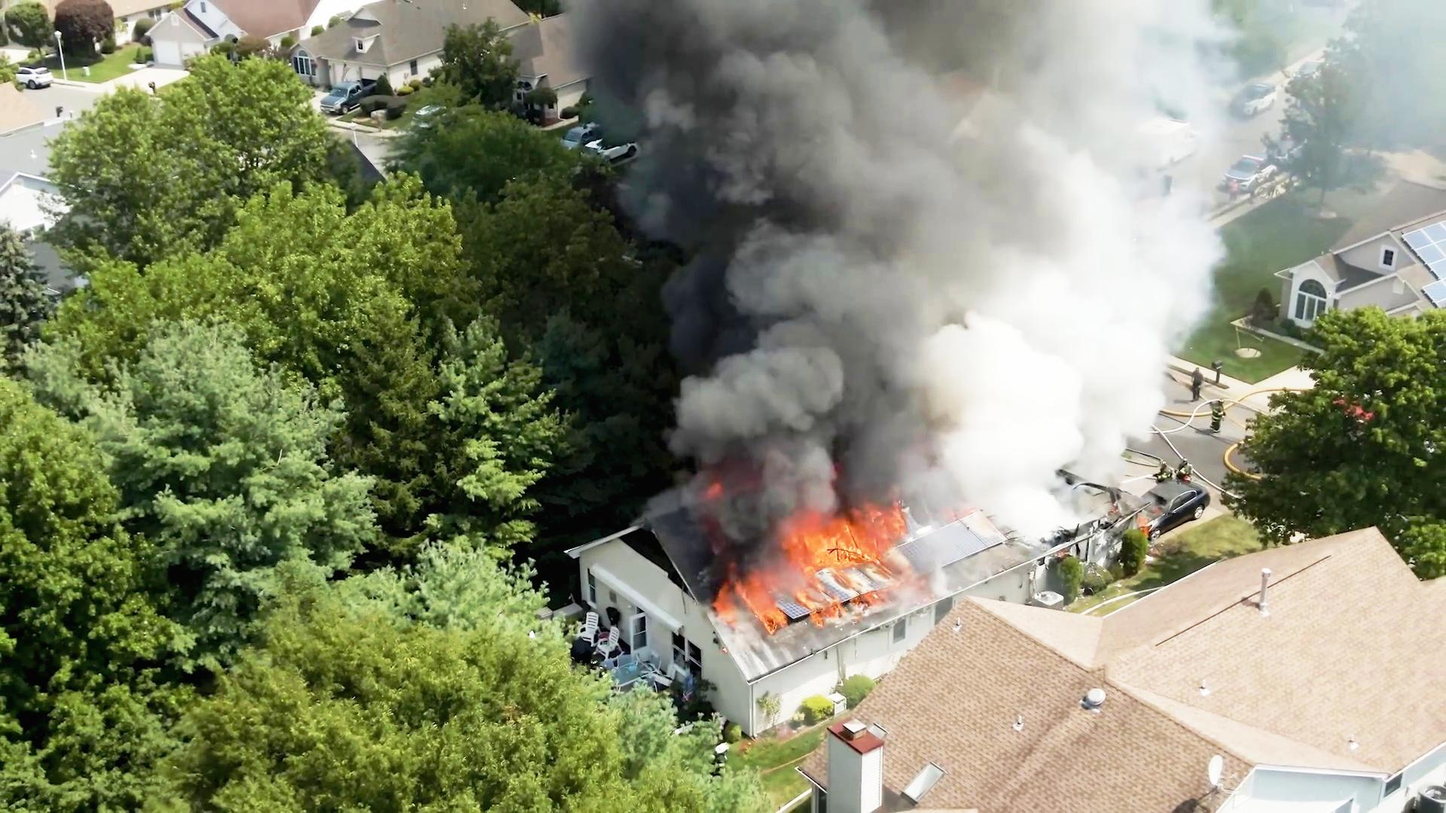fire: (764, 456, 900, 583)
smoke: (626, 0, 942, 445), (884, 18, 1157, 474)
